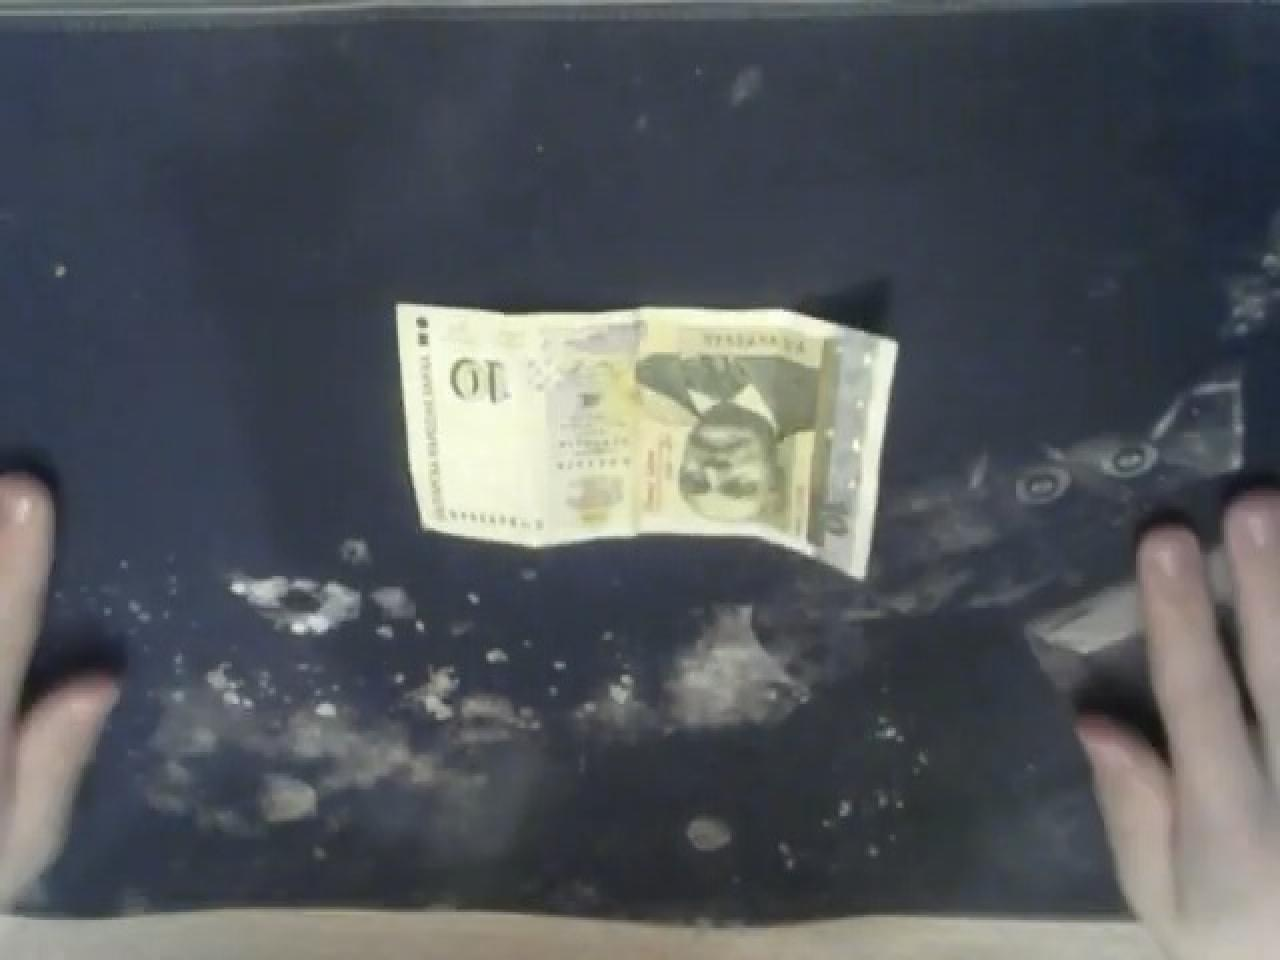10leva: (392, 296, 900, 576)
